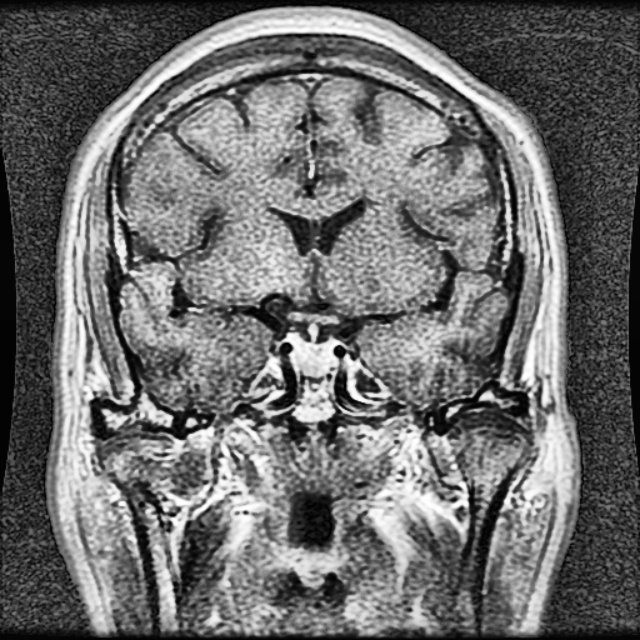Pituitary: (292, 342, 334, 374)
